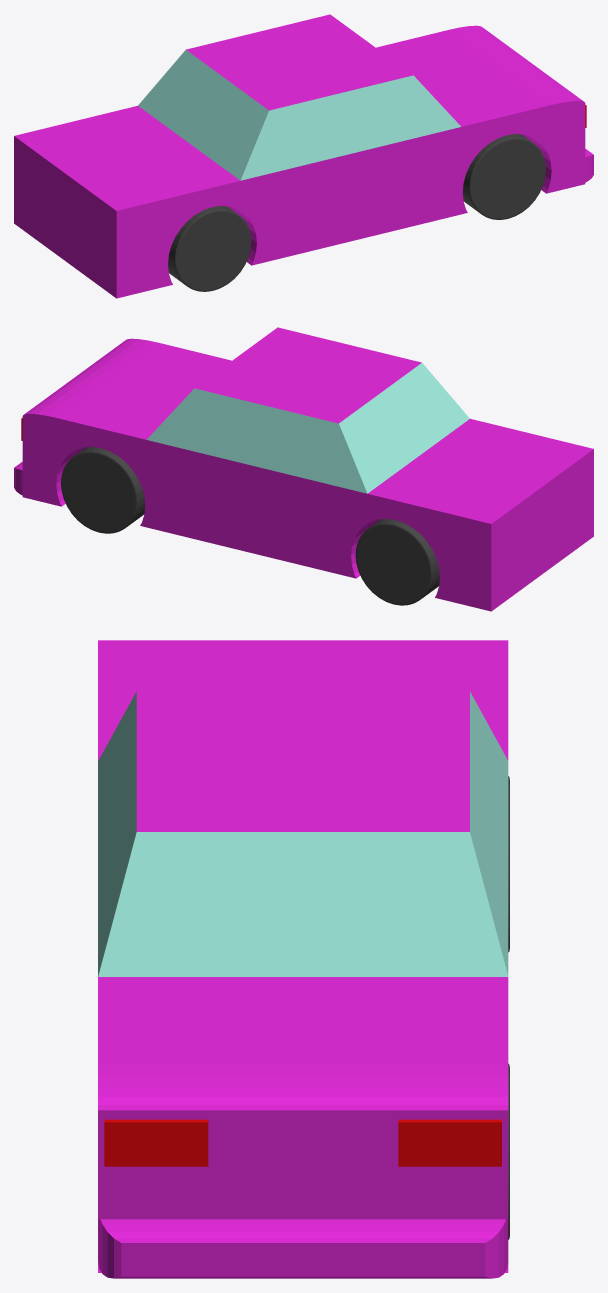
File: carTFO 1.fbx
3 views of the same model, one above another, from view 1: azimuth 30°, elevation 25°; view 2: azimuth 150°, elevation 25°; view 3: azimuth 270°, elevation 25° (orthographic). The views are drawn at different scales.
Visible parts, largest first — view 1: Cube, Cylinder; view 2: Cube, Cylinder; view 3: Cube.
Part boxes in pixels (x1,y1,x2,y2): Cube: (14, 14, 593, 298); Cylinder: (168, 134, 545, 291); Cube: (14, 327, 593, 611); Cylinder: (61, 447, 439, 605); Cube: (98, 640, 508, 1278).
Bounding box in the file's own units: 618 × 193 × 228.
